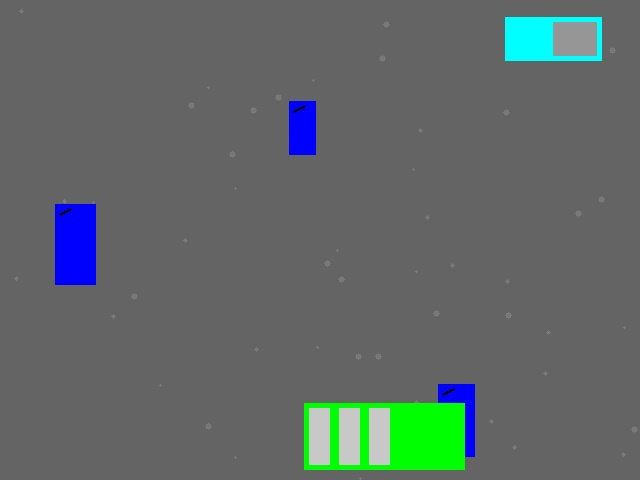bus: (304, 403, 464, 469)
motorcycle: (55, 204, 95, 284), (438, 384, 474, 456), (289, 101, 315, 154)
truck: (505, 17, 601, 60)
